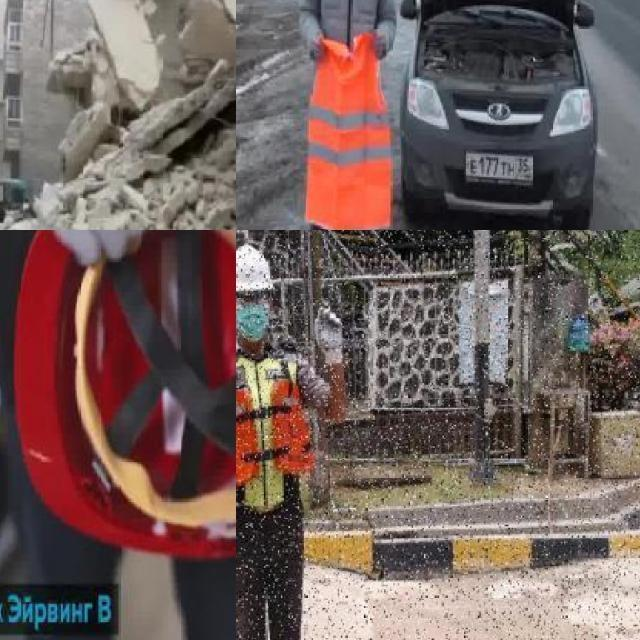apron: (314, 301, 346, 374)
